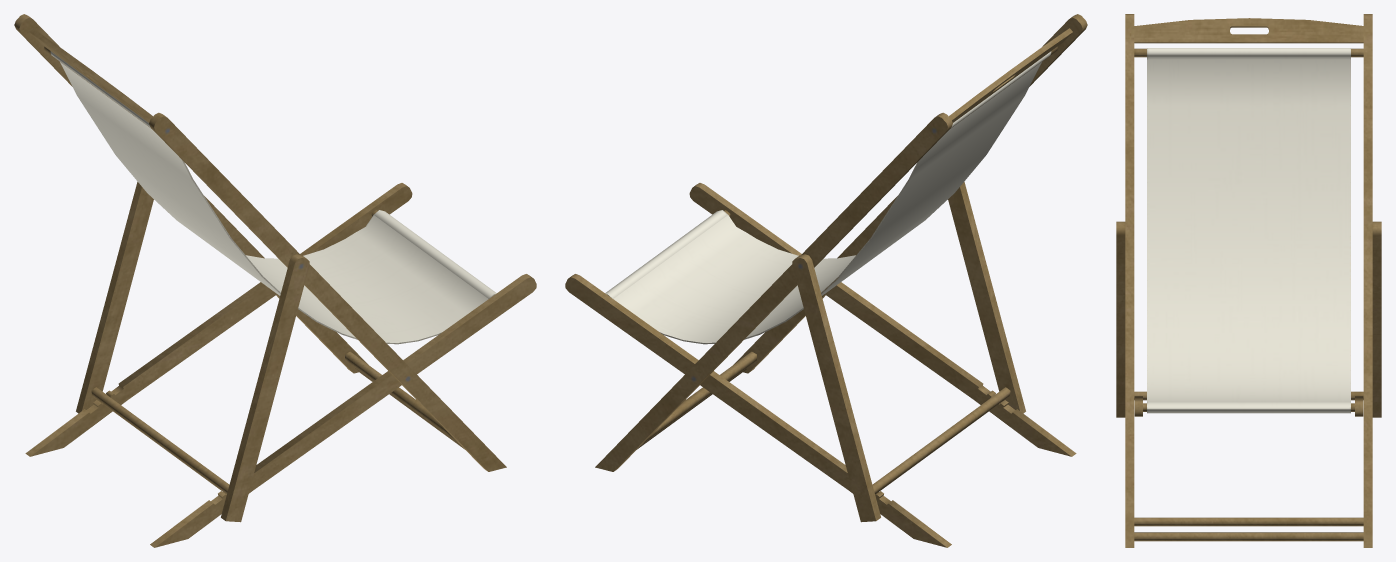
File: Canvas_Sling_Deck_Chair.glb
3 renders of one model, left to right at view 1: azimuth 30°, elevation 25°; view 2: azimuth 150°, elevation 25°; view 3: azimuth 270°, elevation 25°, orthographic. The views are drawn at different scales.
Visible parts, largest first — view 1: DeckChair; view 2: DeckChair; view 3: DeckChair.
Part boxes in pixels (x1,y1,x2,y2): DeckChair: (14, 14, 536, 547); DeckChair: (565, 14, 1087, 547); DeckChair: (1116, 14, 1381, 547).
Size of the model in its own units: 99.81 by 107 by 66.79.
Materials: 1 (1 with a texture image).
